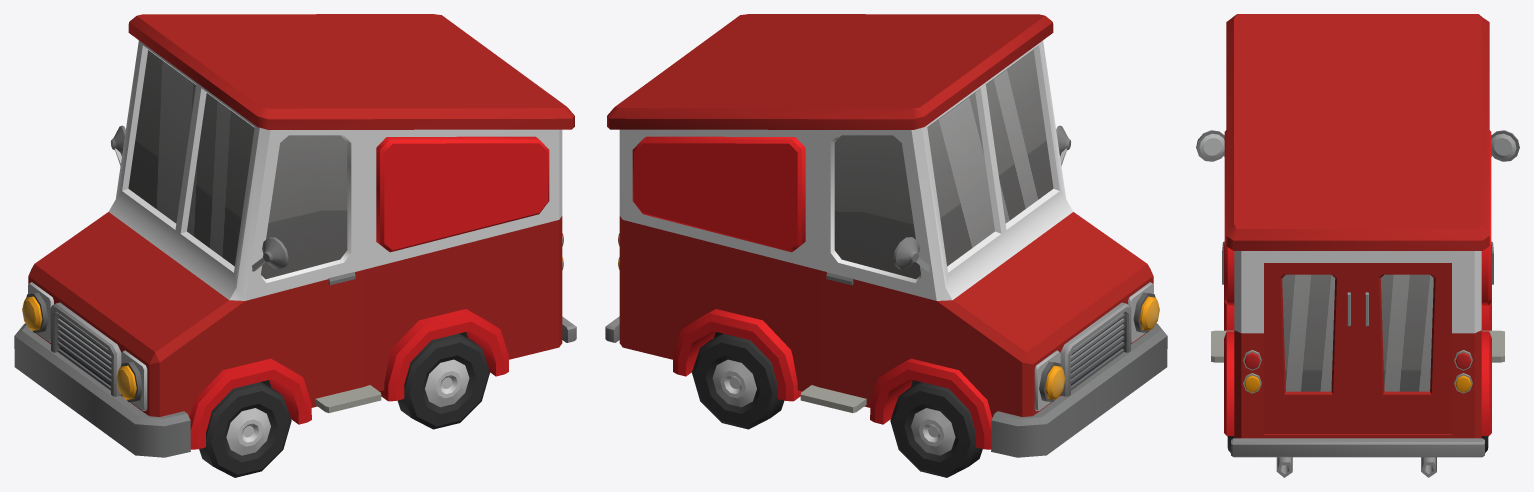
Rendered from Car_15_F.gltf.
3 views of the same model, side by side, from view 1: azimuth 30°, elevation 25°; view 2: azimuth 150°, elevation 25°; view 3: azimuth 270°, elevation 25° (orthographic). The views are drawn at different scales.
Visible parts, largest first — view 1: Car_15_F, RL, FL; view 2: Car_15_F, RR, FR; view 3: Car_15_F.
Boxes of the visible parts, x1,y1,x2,y2 form: Car_15_F: (14, 14, 576, 457); RL: (397, 333, 489, 429); FL: (199, 382, 291, 477); Car_15_F: (605, 14, 1167, 457); RR: (692, 333, 784, 429); FR: (890, 382, 982, 477); Car_15_F: (1196, 14, 1519, 477).
Size of the model in its own units: 2.75 by 2.13 by 1.8.
Materials: 4 (4 with a texture image).
